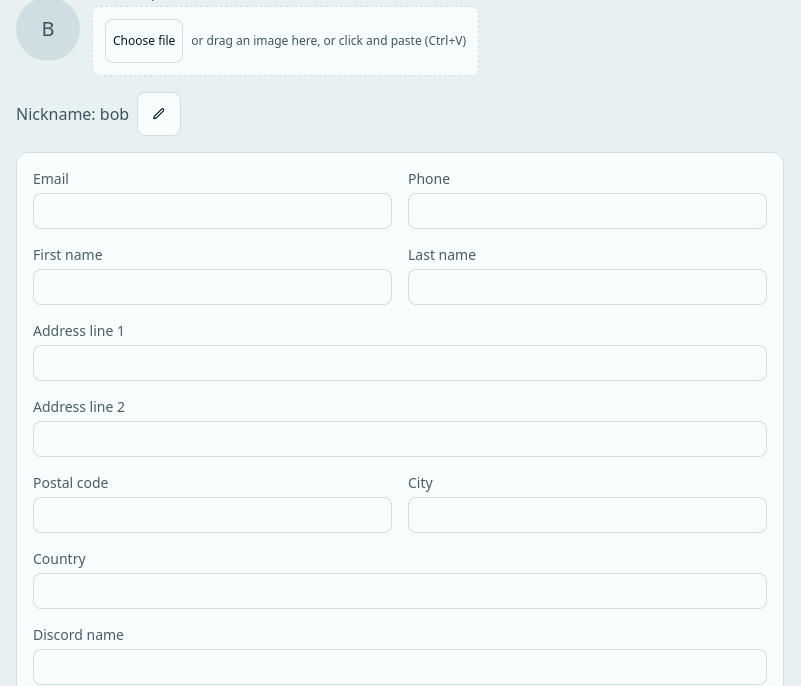
Test case: ProfilePage › submits edited fields and shows a saved confirmation
This screenshot has width=801, height=686.
Expected: the text "Nickname: bob" is shown, [16,102,129,126]
Type "1 Shibuya" into the field labelled "Address line 1".
click(400, 363); type("1 Shibuya")  # box [33,345,767,381]
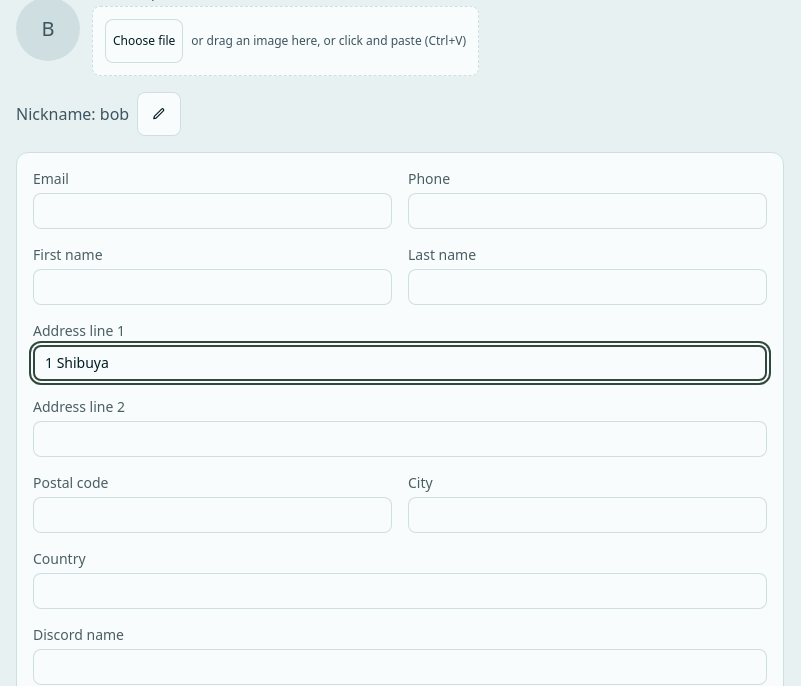
Type "Tokyo" into the field labelled "City".
click(588, 515); type("Tokyo")  # box [408,497,767,533]
(page scrolled)
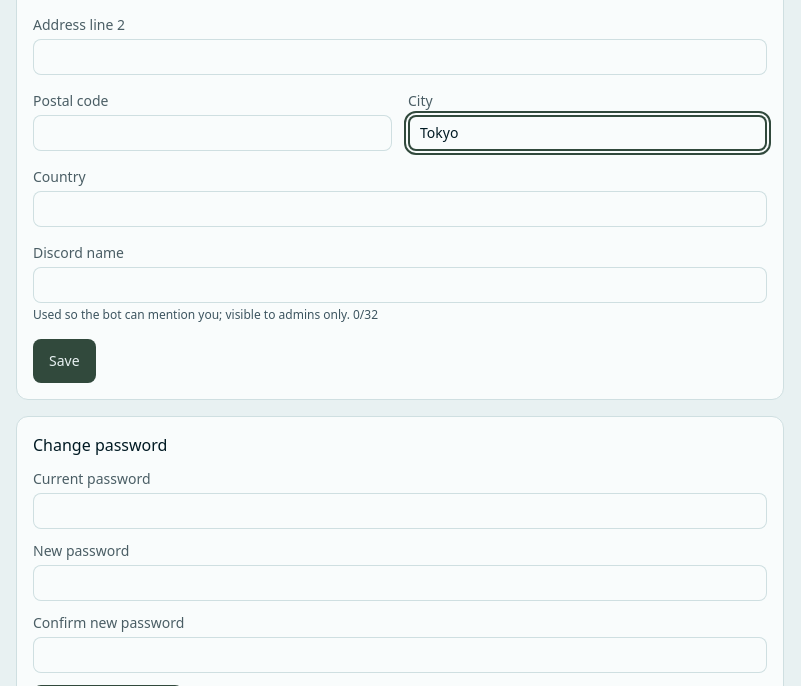
Click the button "Save".
click(64, 361)  # box [33,339,96,383]
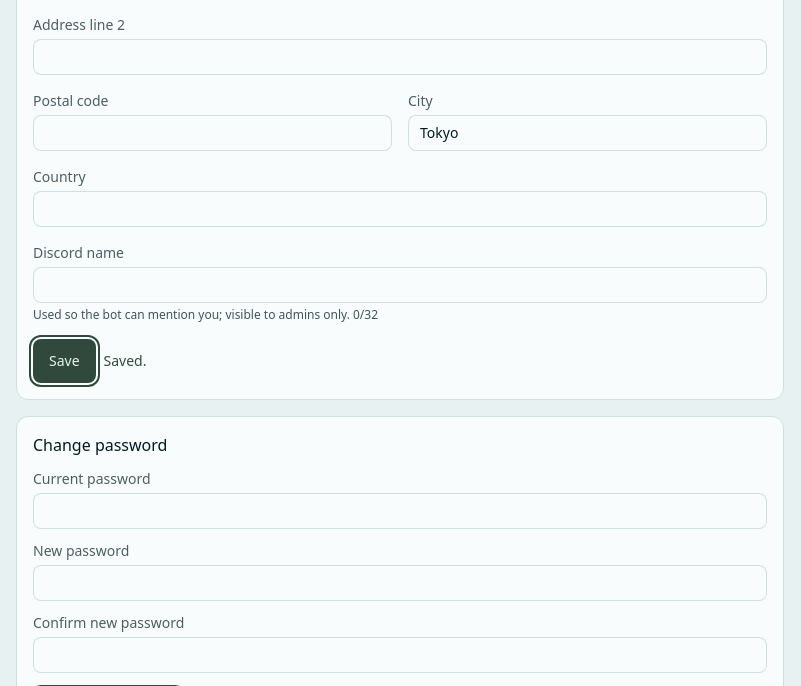
Result: the text "Saved." is shown at [104,351,146,371]
